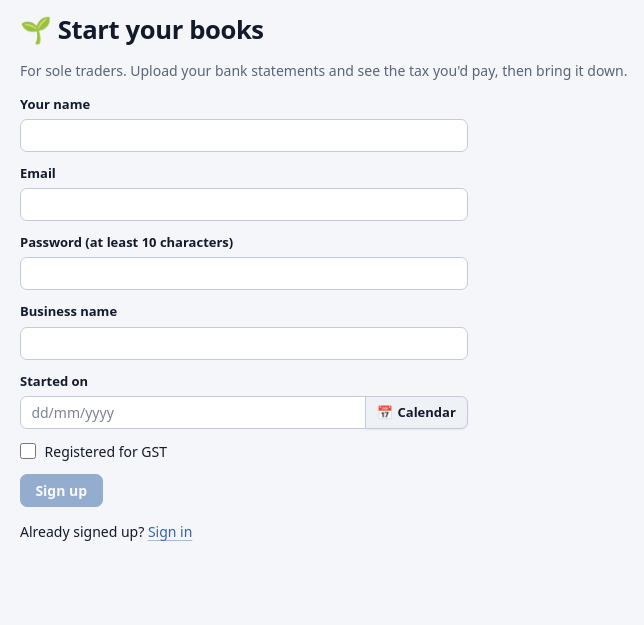
Test case: SignUpPage › shows why a sign-up was refused
Type "Ana" into the field labelled "Your name" at (244, 135), box x1=20 y1=119 x2=468 y2=152
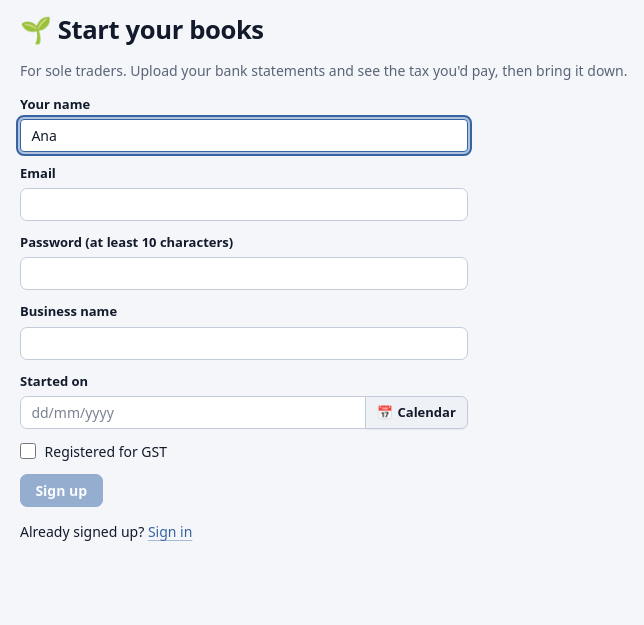
Type "ana@example.nz" into the field labelled "Email" at (244, 205), box x1=20 y1=188 x2=468 y2=221
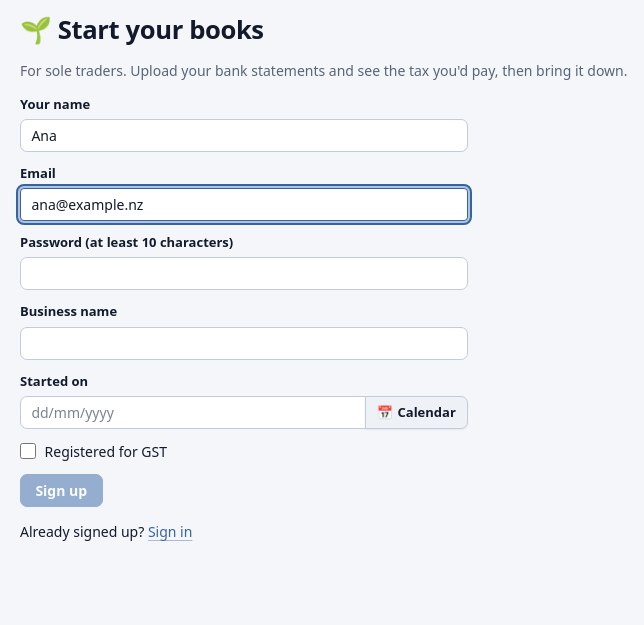
Type "correct horse battery" into the password field labelled "Password (at least 10 characters)" at (244, 274), box x1=20 y1=258 x2=468 y2=290
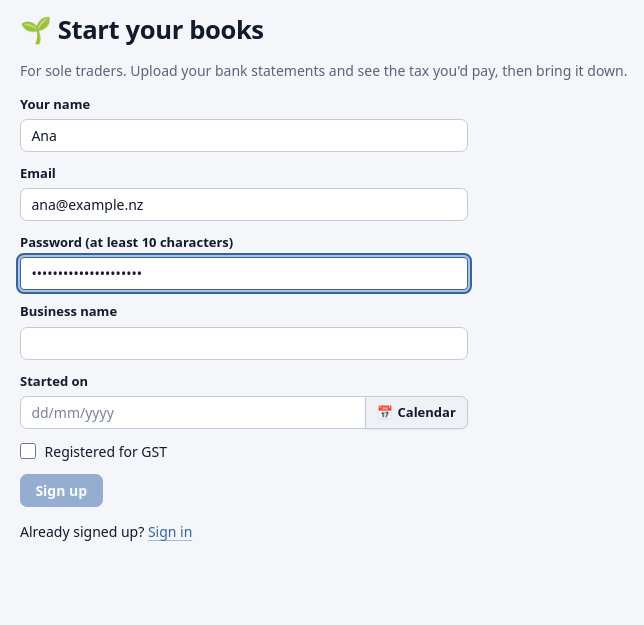
Type "Ana's" into the field labelled "Business name" at (244, 343), box x1=20 y1=327 x2=468 y2=360
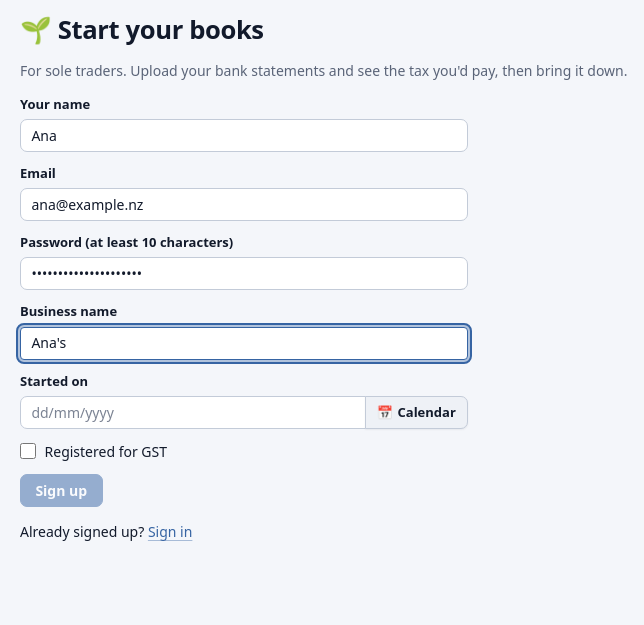
Type "2025-04-01" into the field labelled "Started on" at (193, 412), box x1=20 y1=396 x2=366 y2=429
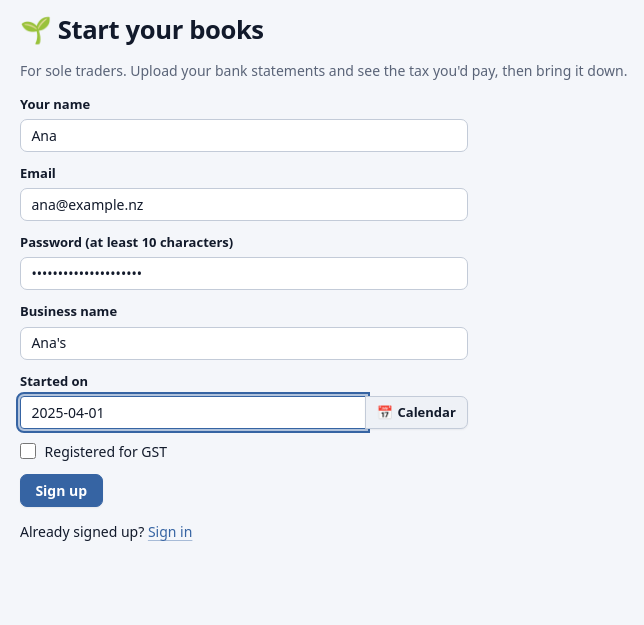
Click the button "Sign up" at (61, 490), box x1=20 y1=474 x2=102 y2=507
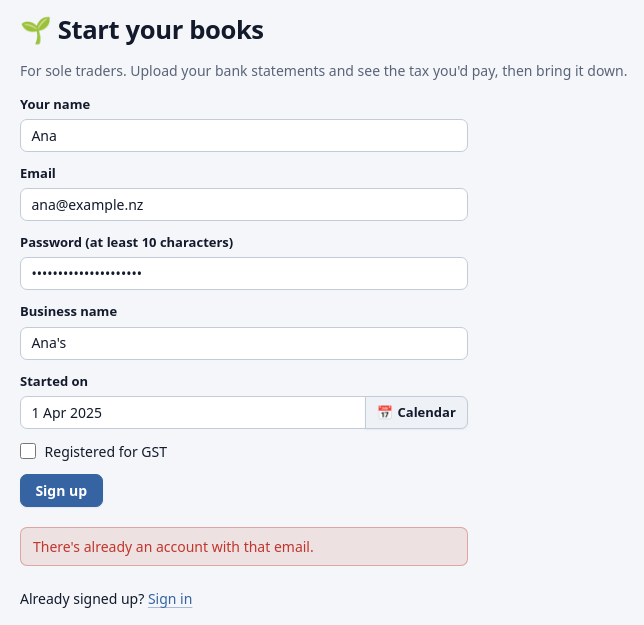
Check: the message shows "already an account", box x1=33 y1=537 x2=314 y2=556
